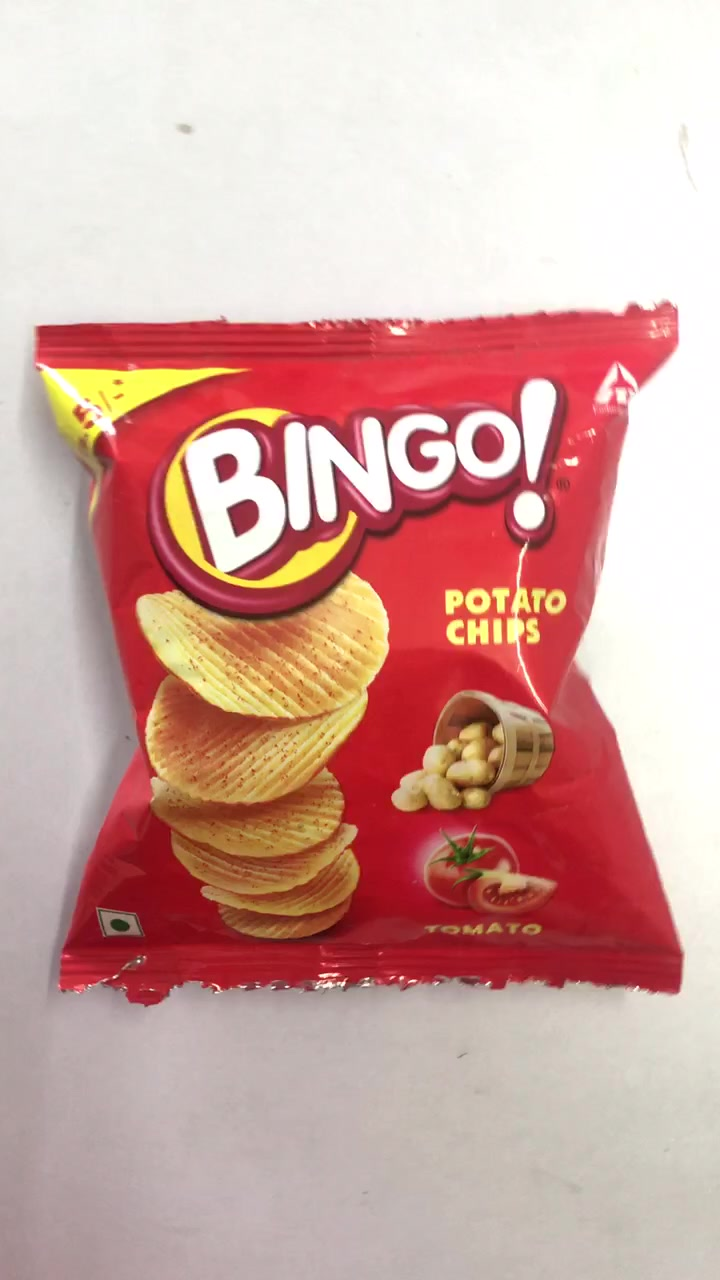Bingo: (37, 324, 683, 982)
